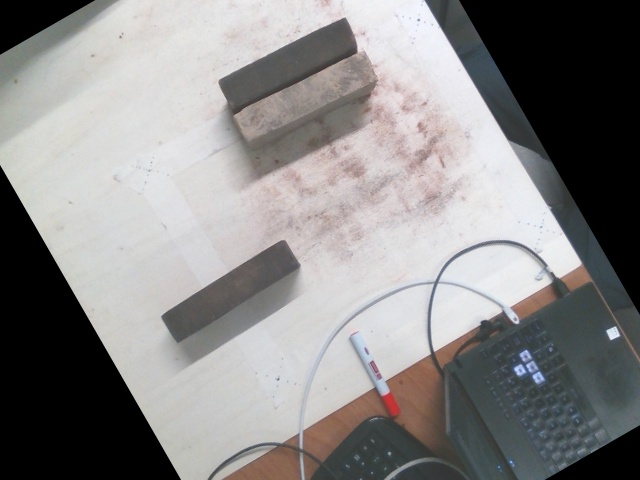brick-side: (161, 240, 298, 340), (214, 19, 354, 105), (236, 53, 375, 137)
